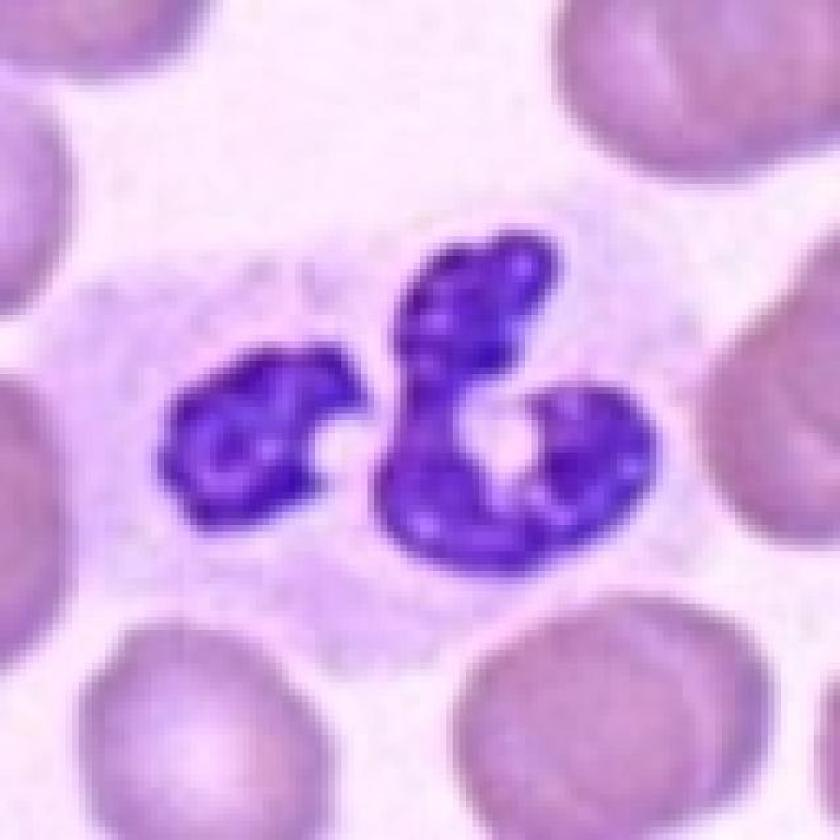neutrophil: (35, 155, 715, 679)
